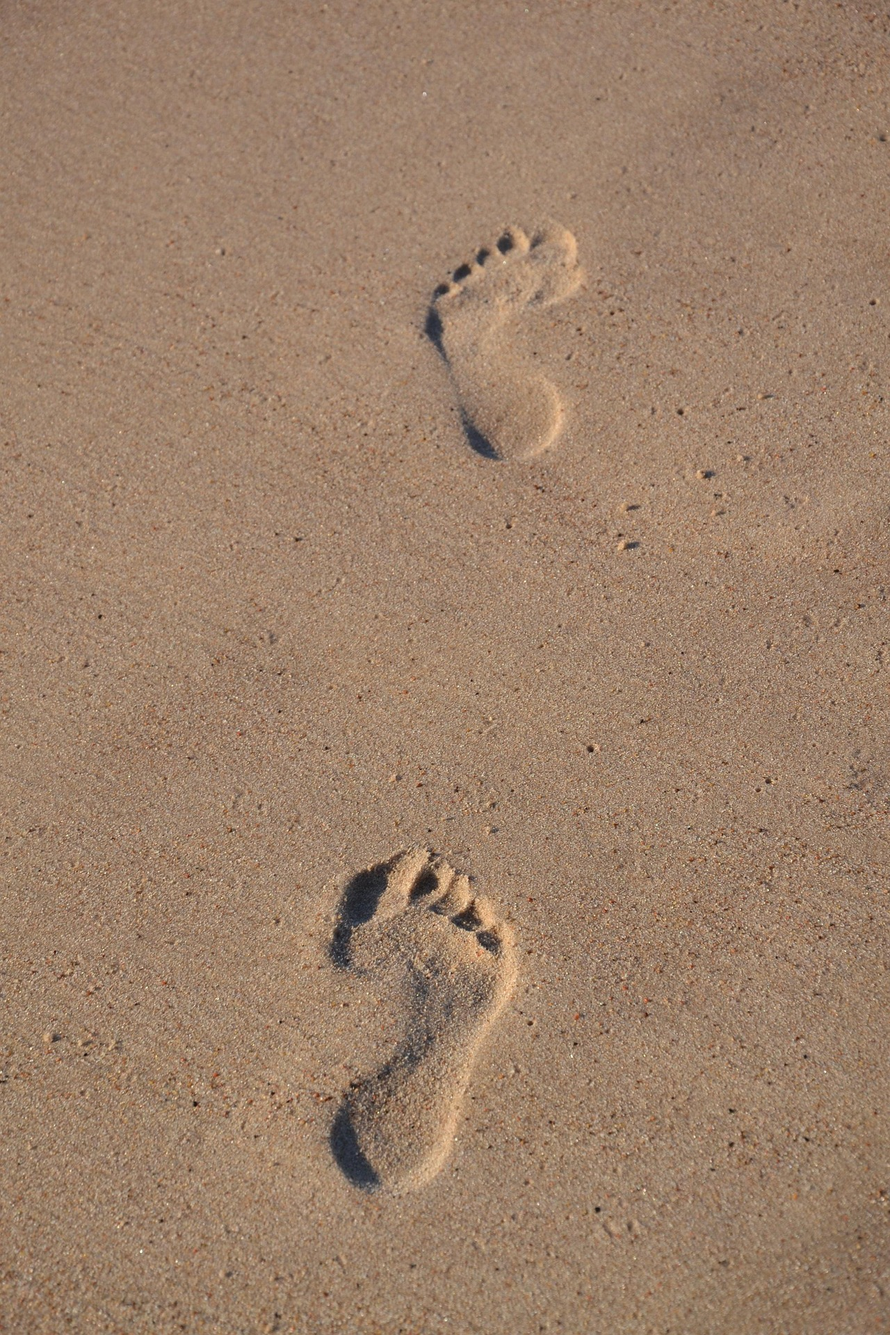human_foot_print: (330, 848, 515, 1192), (426, 222, 583, 458)
